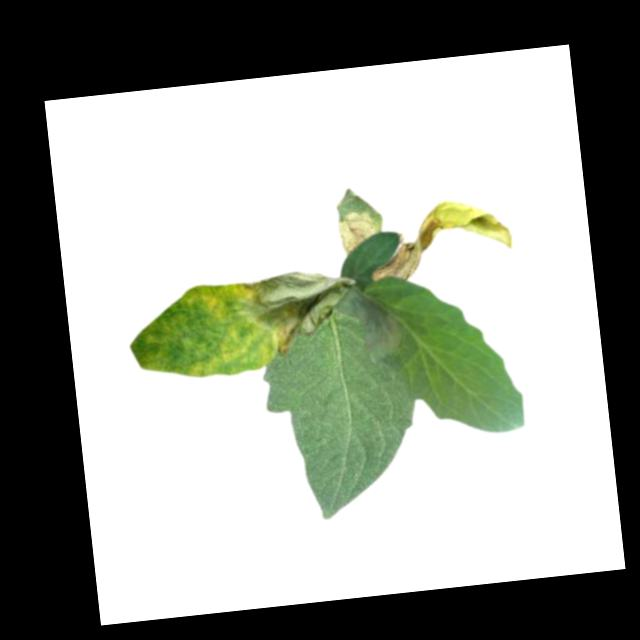Late_blight: (366, 194, 519, 285), (241, 266, 359, 358), (333, 280, 409, 368), (337, 208, 382, 258)
